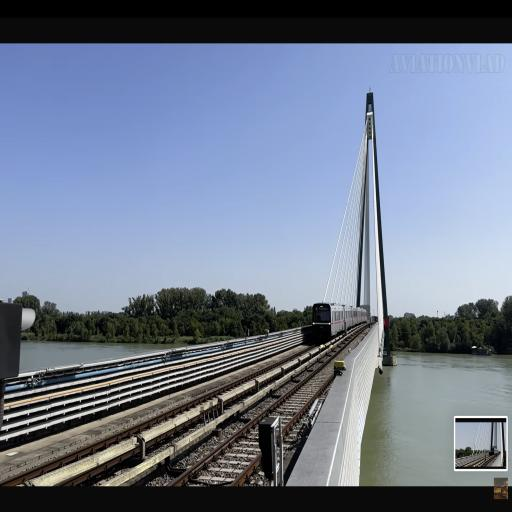X-Wagen: (312, 303, 368, 336)
